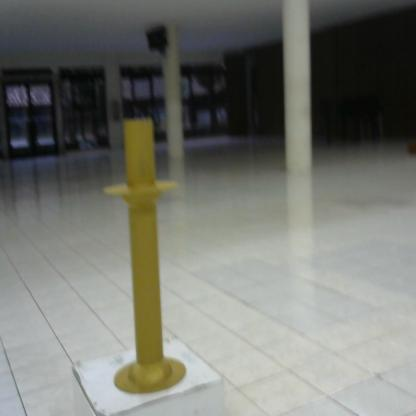pole: (98, 114, 201, 408)
